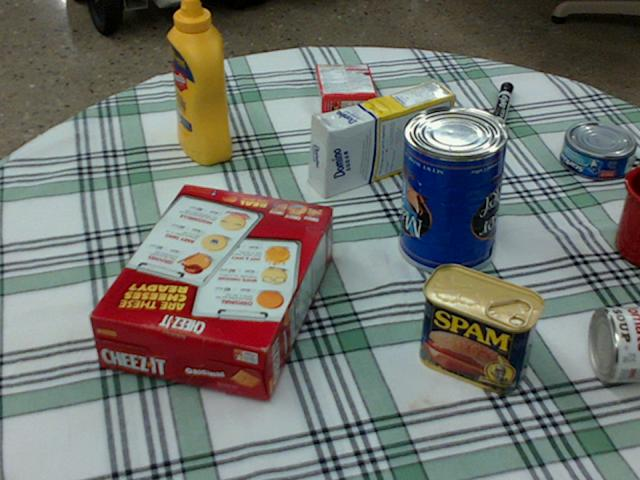cracker_box: (88, 186, 331, 399)
gelatin_box: (315, 64, 376, 112)
large_marker: (488, 81, 514, 134)
master_chef_can: (397, 105, 510, 273)
mug: (614, 166, 639, 267)
mustard_bottle: (167, 0, 229, 163)
potted_meat_can: (419, 263, 543, 391)
sugar_box: (309, 80, 454, 198)
tomato_soup_can: (590, 306, 639, 381)
tuna_fish_can: (561, 121, 635, 179)
